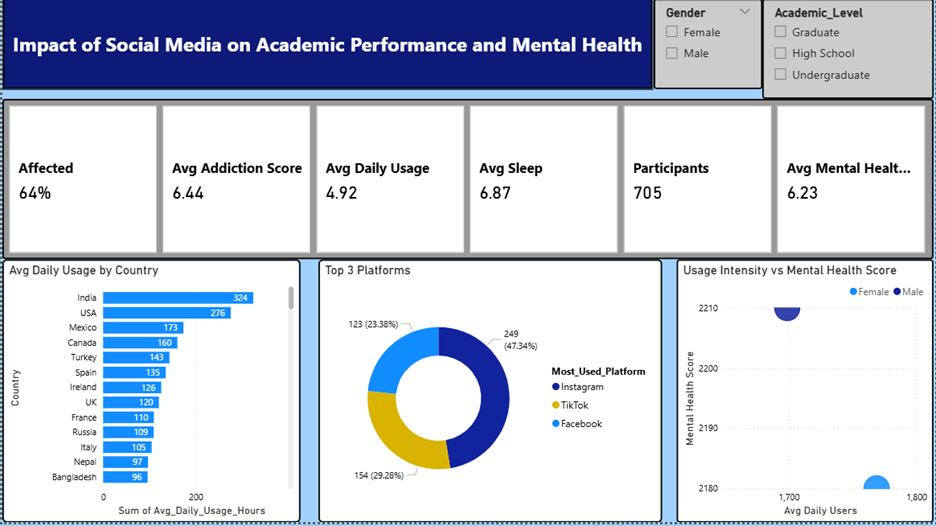

The dashboard page shown, as its layout file describes it:
{"tool":"powerbi","page":{"name":"Page 1","canvas":[1280,720],"ordinal":0},"visuals":[{"type":"cardVisual","fields":{"Data":["Students Social Media Addiction.Affected","Avg(Students Social Media Addiction.Addicted_Score)","Avg(Students Social Media Addiction.Avg_Daily_Usage_Hours)","Avg(Students Social Media Addiction.Sleep_Hours_Per_Night)","CountNonNull(Students Social Media Addiction.Student_ID)","Avg(Students Social Media Addiction.Mental_Health_Score)"]},"box":[0,139.1,1278.8,220.3],"z":0},{"type":"clusteredBarChart","title":"Avg Daily Usage by Country","fields":{"Category":["Students Social Media Addiction.Country"],"Y":["Sum(Students Social Media Addiction.Avg_Daily_Usage_Hours)"]},"box":[0,359.5,409.2,361.1],"z":1},{"type":"donutChart","title":"Top 3 Platforms","fields":{"Category":["Students Social Media Addiction.Most_Used_Platform"],"Y":["CountNonNull(Students Social Media Addiction.Student_ID)"]},"box":[434,359.5,472.1,361.1],"z":2},{"type":"slicer","fields":{"Values":["Students Social Media Addiction.Gender"]},"box":[894.5,1.7,149.1,124.2],"z":3},{"type":"slicer","fields":{"Values":["Students Social Media Addiction.Academic_Level"]},"box":[1043.6,1.7,235.2,137.5],"z":4},{"type":"shape","box":[0,0,893.9,126.6],"z":5},{"type":"scatterChart","title":"Usage Intensity vs Mental Health Score","fields":{"X":["Sum(Students Social Media Addiction.Avg_Daily_Usage_Hours)"],"Y":["Sum(Students Social Media Addiction.Mental_Health_Score)"],"Size":["Sum(Students Social Media Addiction.Addicted_Score)"],"Series":["Students Social Media Addiction.Gender"]},"box":[926,359.5,352.8,361.1],"z":6}]}

Visuals, with their boxes in screenshot pixels (x1, y1, x2, y2), scaled from the page's 1280x720 canvas onto the 936x526 screenshot:
cardVisual - Students Social Media Addiction.Affected x Avg(Students Social Media Addiction.Addicted_Score): (0, 102, 935, 263)
"Avg Daily Usage by Country" clusteredBarChart: (0, 263, 299, 525)
"Top 3 Platforms" donutChart: (317, 263, 663, 525)
slicer - Students Social Media Addiction.Gender: (654, 1, 763, 92)
slicer - Students Social Media Addiction.Academic_Level: (763, 1, 935, 102)
shape: (0, 0, 654, 92)
"Usage Intensity vs Mental Health Score" scatterChart: (677, 263, 935, 525)
